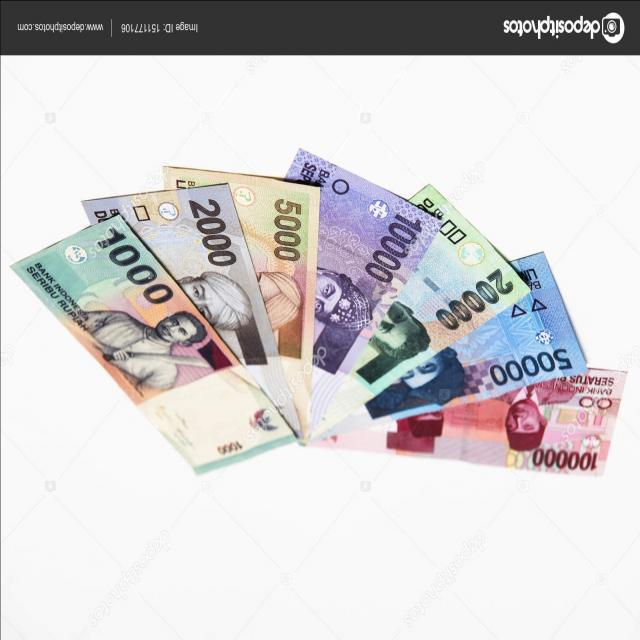1000IndonesianRupiah: (15, 234, 290, 463)
